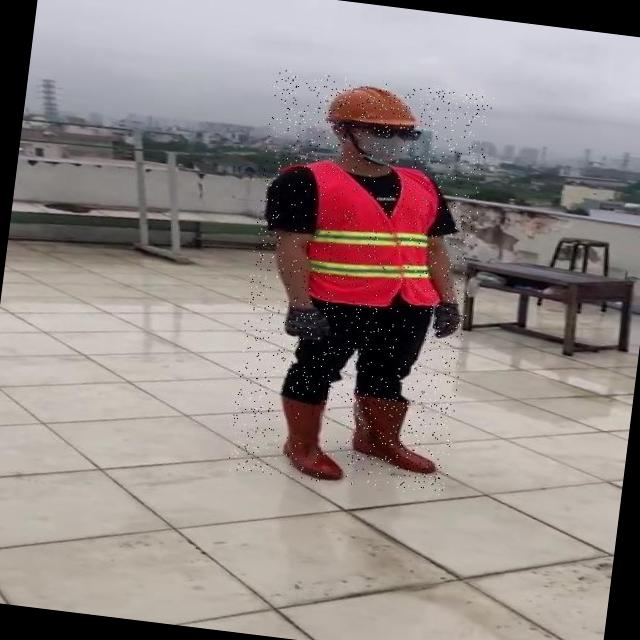boots: (343, 390, 452, 478), (267, 391, 354, 482)
gloves: (249, 268, 360, 352), (415, 280, 503, 358)
helmet: (318, 78, 422, 136)
vest: (273, 156, 457, 316)
